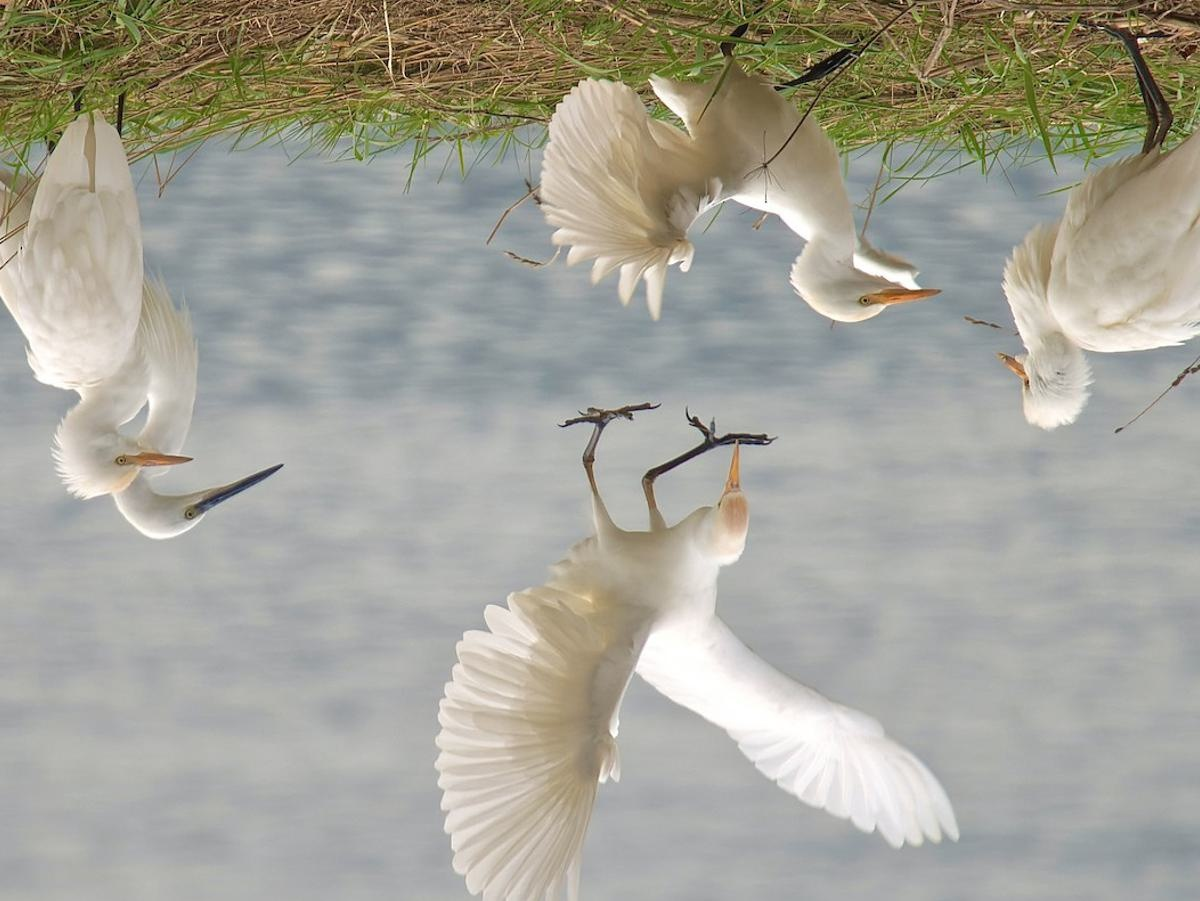egret: (420, 390, 981, 896), (535, 30, 943, 350), (1, 139, 196, 498), (980, 144, 1200, 440), (116, 460, 284, 549)
